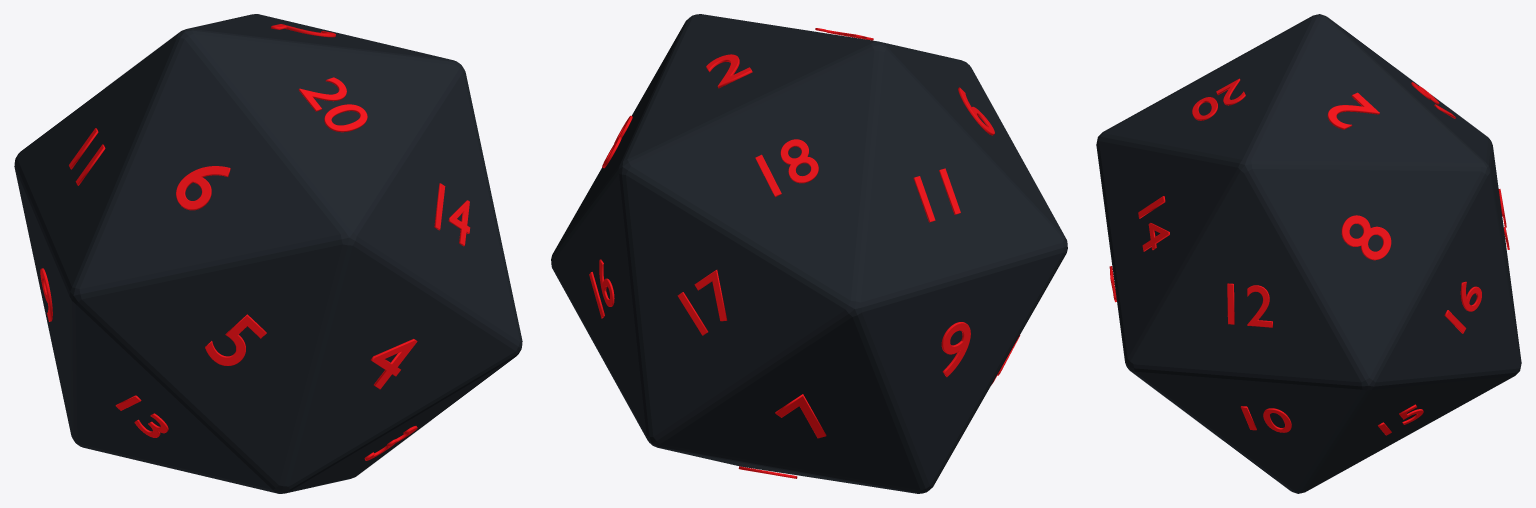
Rendered from grimorio-d20.glb.
The picture shows the model from 3 angles, left to right: view 1: azimuth 30°, elevation 25°; view 2: azimuth 150°, elevation 25°; view 3: azimuth 270°, elevation 25°; orthographic projection. The views are drawn at different scales.
Parts seen in each view (by area): view 1: GRIMUR_D20, GRIMUR_Number_20, GRIMUR_Number_06, GRIMUR_Number_05, GRIMUR_Number_04, GRIMUR_Number_14, GRIMUR_Number_13; view 2: GRIMUR_D20, GRIMUR_Number_18, GRIMUR_Number_17, GRIMUR_Number_09, GRIMUR_Number_11, GRIMUR_Number_07, GRIMUR_Number_02, GRIMUR_Number_16; view 3: GRIMUR_D20, GRIMUR_Number_08, GRIMUR_Number_12, GRIMUR_Number_20, GRIMUR_Number_02, GRIMUR_Number_16, GRIMUR_Number_14, GRIMUR_Number_10.
Part boxes in pixels (box(x1,y1,x2,y2)): GRIMUR_D20: box(14, 14, 522, 493); GRIMUR_Number_20: box(298, 77, 367, 132); GRIMUR_Number_06: box(176, 166, 230, 210); GRIMUR_Number_05: box(205, 314, 266, 365); GRIMUR_Number_04: box(371, 339, 417, 389); GRIMUR_Number_14: box(434, 183, 470, 246); GRIMUR_Number_13: box(115, 395, 168, 437); GRIMUR_D20: box(551, 14, 1067, 493); GRIMUR_Number_18: box(755, 139, 818, 196); GRIMUR_Number_17: box(677, 270, 727, 335); GRIMUR_Number_09: box(941, 322, 970, 376); GRIMUR_Number_11: box(913, 168, 960, 222); GRIMUR_Number_07: box(775, 394, 826, 438); GRIMUR_Number_02: box(706, 54, 752, 88); GRIMUR_Number_16: box(589, 259, 614, 318); GRIMUR_D20: box(1096, 14, 1521, 493); GRIMUR_Number_08: box(1341, 215, 1391, 260); GRIMUR_Number_12: box(1227, 283, 1272, 327); GRIMUR_Number_20: box(1192, 78, 1245, 120); GRIMUR_Number_02: box(1327, 92, 1379, 129); GRIMUR_Number_16: box(1444, 281, 1481, 333); GRIMUR_Number_14: box(1138, 196, 1169, 251); GRIMUR_Number_10: box(1240, 406, 1291, 432).
Bounding box in the file's own units: 3.77 × 3.73 × 3.47.
